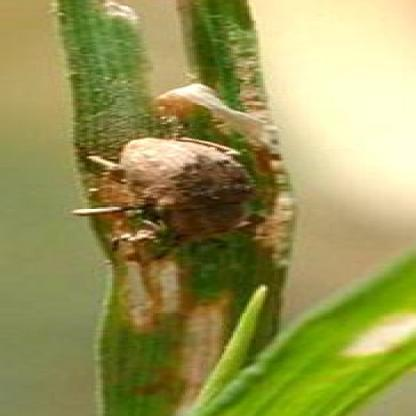rice-bug: (85, 134, 273, 245)
